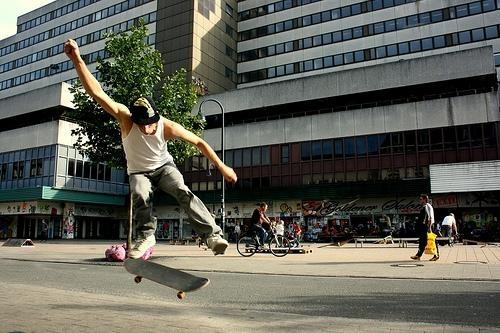bicycle: (238, 220, 291, 258)
